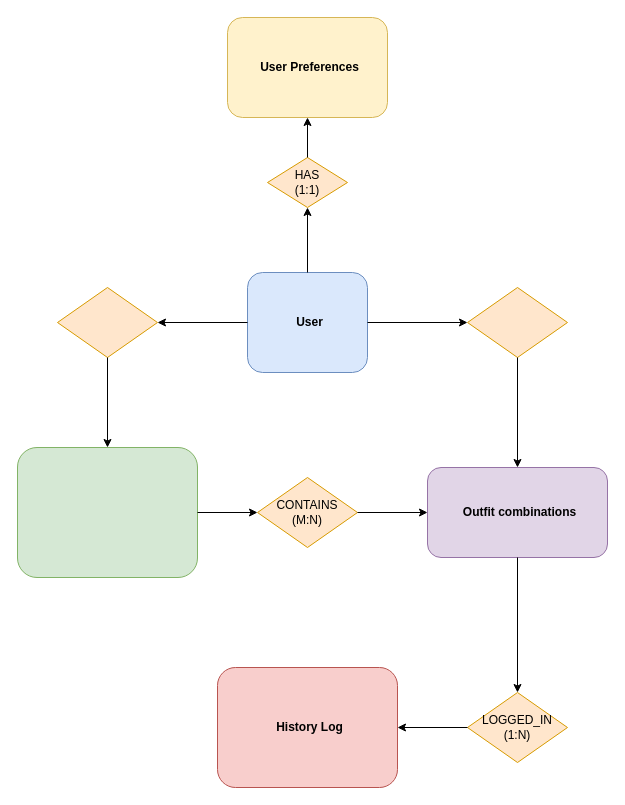
This 625x805 diagram has some shape labels left out. Here are the shapes that lost their labels. From the top down, the centre of each, then its label:
the point at 107,322: OWNS (1:N)
the point at 517,322: CREATES (1:N)
the point at 107,512: Clothing Item
